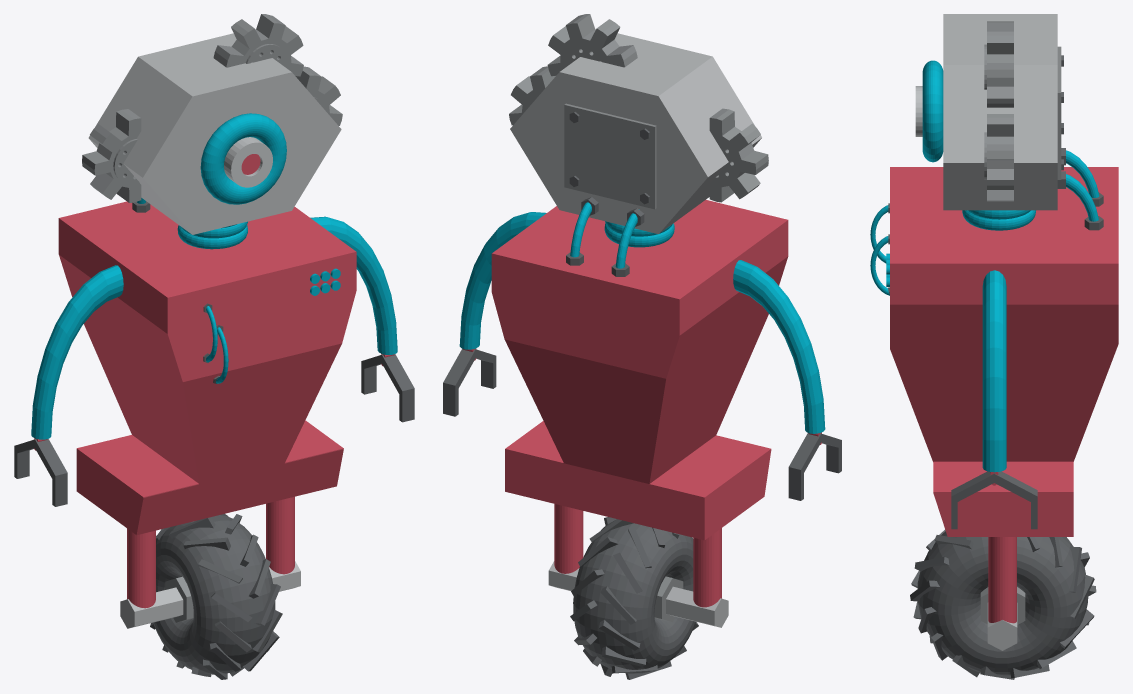
Rendered from robot.glb.
3 renders of one model, left to right at view 1: azimuth 30°, elevation 25°; view 2: azimuth 150°, elevation 25°; view 3: azimuth 270°, elevation 25°, orthographic. The views are drawn at different scales.
Parts seen in each view (by area): view 1: Mesh_Mesh_head_geo.001_lambert2SG.001; view 2: Mesh_Mesh_head_geo.001_lambert2SG.001; view 3: Mesh_Mesh_head_geo.001_lambert2SG.001.
Part boxes in pixels (<box>): Mesh_Mesh_head_geo.001_lambert2SG.001: <box>14,14,414,679</box>; Mesh_Mesh_head_geo.001_lambert2SG.001: <box>443,14,841,679</box>; Mesh_Mesh_head_geo.001_lambert2SG.001: <box>870,14,1118,679</box>.
Size of the model in its own units: 0.0919 by 0.155 by 0.0518.
